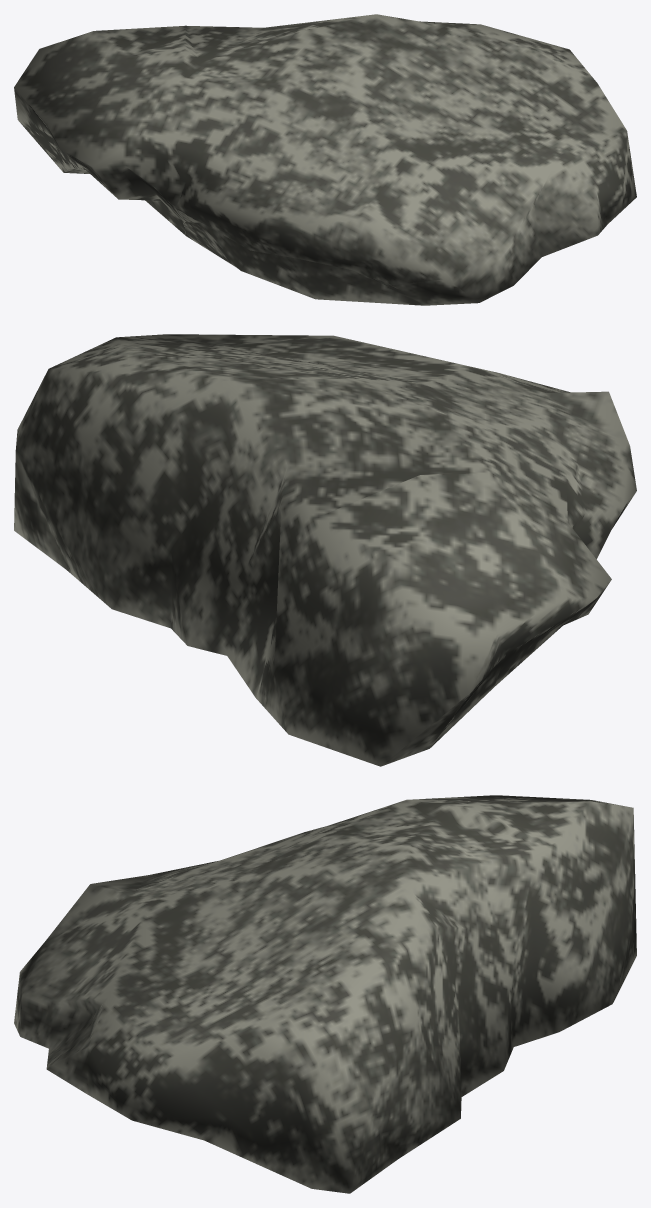
File: mm8_deco_rock20.glb
3 views of the same model, one above another, from view 1: azimuth 30°, elevation 25°; view 2: azimuth 150°, elevation 25°; view 3: azimuth 270°, elevation 25° (orthographic). The views are drawn at different scales.
Visible parts, largest first — view 1: Rock20; view 2: Rock20; view 3: Rock20.
Boxes of the visible parts, x1=… form: Rock20: x1=14, y1=14, x2=636, y2=305; Rock20: x1=14, y1=334, x2=636, y2=766; Rock20: x1=14, y1=795, x2=636, y2=1193.
Bounding box in the file's own units: 0.5108 × 0.1824 × 0.4908.
Materials: 1 (1 with a texture image).
